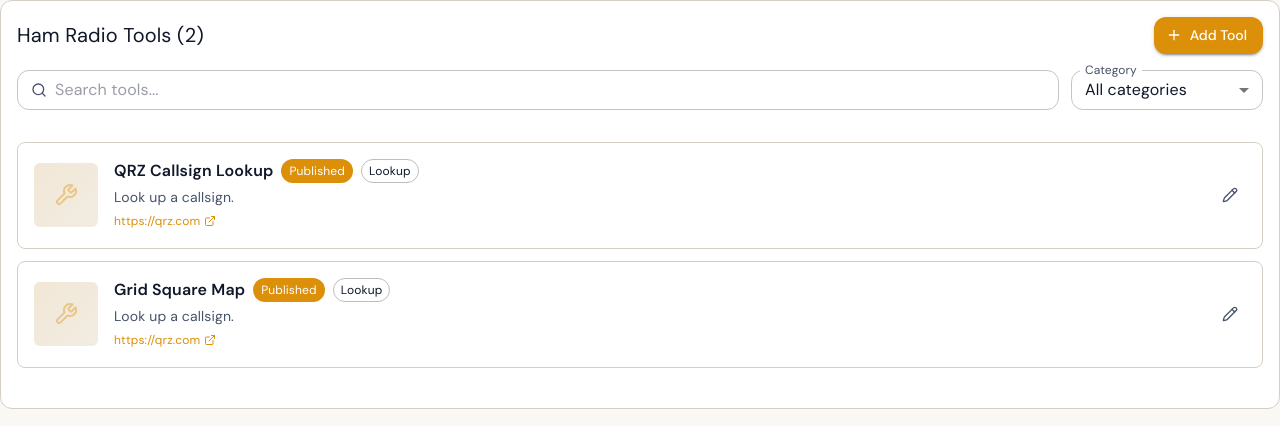
Scenario: AdminHamRadioTools › list › filters by search term
The image size is (1280, 426).
Type "grid" into the field labelled "Search tools..." at [557, 90], box [55,70,1059,110]
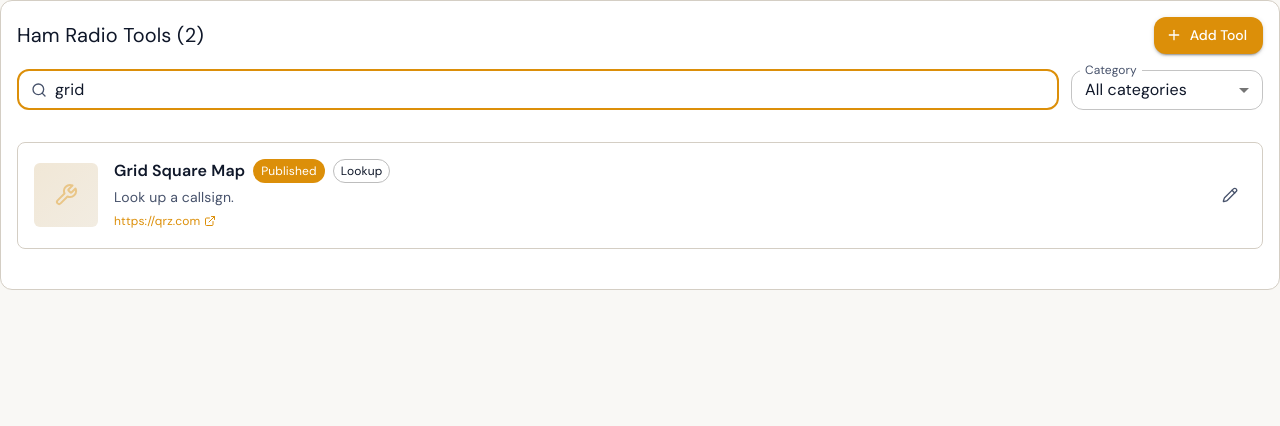
Expected: the heading "Grid Square Map" is shown, [114,158,245,182]
Expected: the heading "QRZ Callsign Lookup" is gone
